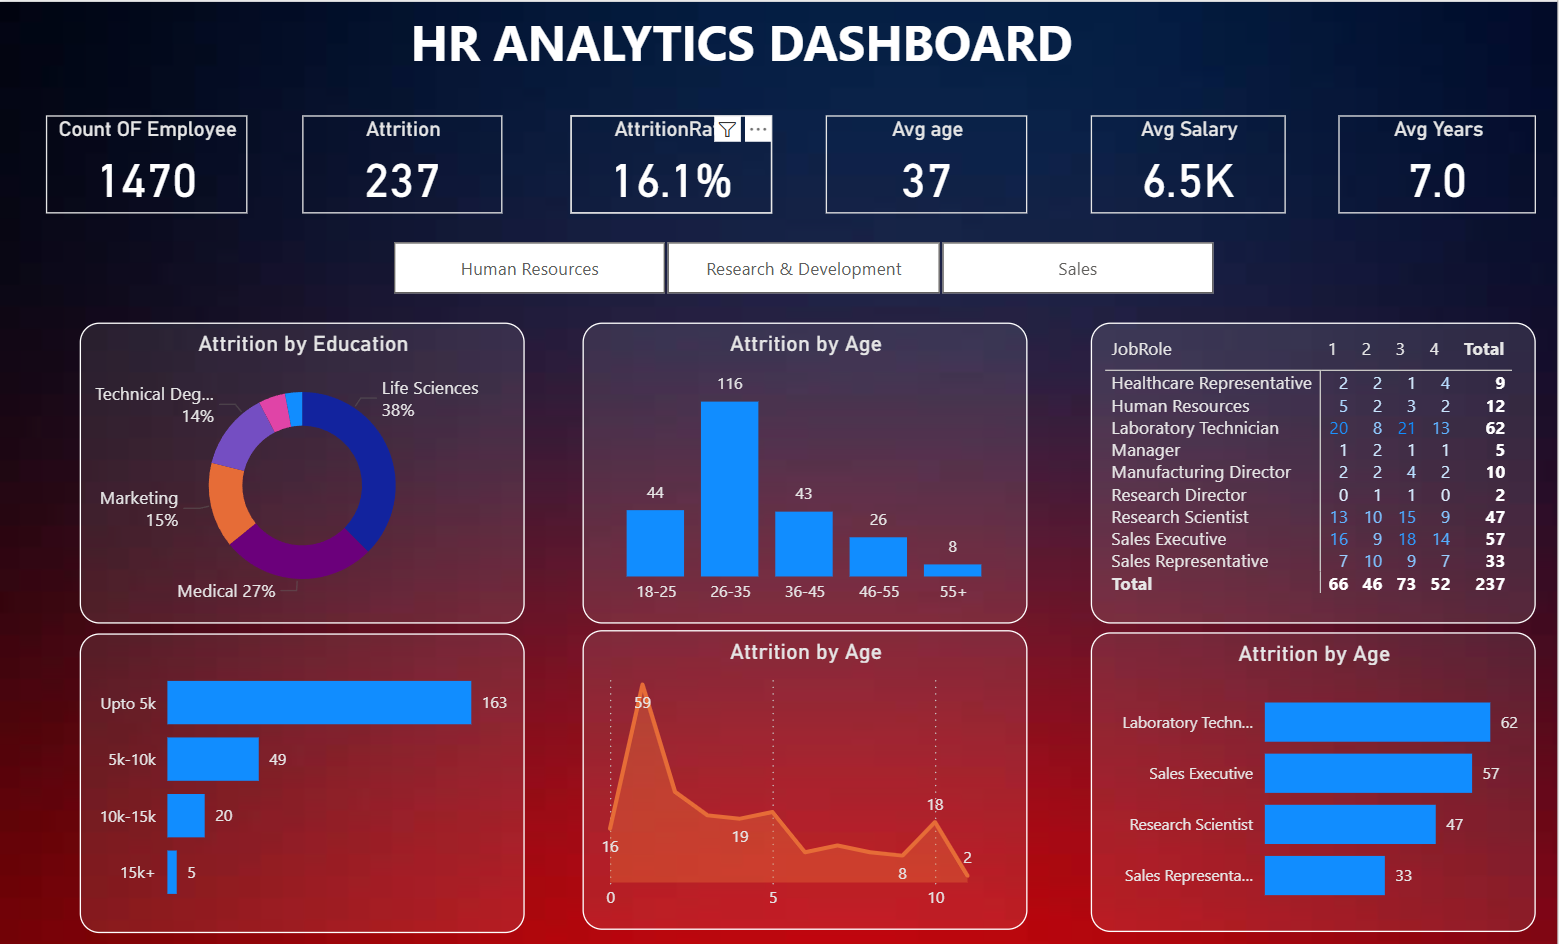

The dashboard page shown, as its layout file describes it:
{"tool":"powerbi","page":{"name":"Page 1","canvas":[1280,720],"ordinal":0},"visuals":[{"type":"card","title":"Count OF Employee","fields":{"Values":["Count(HR_Analytics.EmpID)"]},"box":[36.2,86.2,153.8,75],"z":0},{"type":"card","title":"Avg Salary","fields":{"Values":["Avg(HR_Analytics.MonthlyIncome)"]},"box":[835,86.2,148.8,75],"z":1000},{"type":"card","title":"Attrition","fields":{"Values":["Sum(HR_Analytics.AttritionCount)"]},"box":[232.5,86.2,152.5,75],"z":2000},{"type":"card","title":"AttritionRate","fields":{"Values":["HR_Analytics.AttritionRate"]},"box":[437.5,86.2,153.8,75],"z":3000},{"type":"card","title":"Avg age","fields":{"Values":["Avg(HR_Analytics.Age)"]},"box":[632.5,86.2,153.8,75],"z":4000},{"type":"card","title":"Avg Years","fields":{"Values":["Avg(HR_Analytics.YearsAtCompany)"]},"box":[1023.8,86.2,151.2,75],"z":5000},{"type":"donutChart","title":"Attrition by Education","fields":{"Category":["HR_Analytics.EducationField"],"Y":["Sum(HR_Analytics.AttritionCount)"]},"box":[62.5,245,340,230],"z":6000},{"type":"columnChart","title":"Attrition by Age","fields":{"Category":["HR_Analytics.AgeGroup","HR_Analytics.EducationField"],"Y":["Sum(HR_Analytics.AttritionCount)"]},"box":[446.2,245,340,230],"z":7000},{"type":"pivotTable","fields":{"Rows":["HR_Analytics.JobRole"],"Columns":["HR_Analytics.JobSatisfaction"],"Values":["Sum(HR_Analytics.AttritionCount)"]},"box":[835,245,340,230],"z":8000},{"type":"barChart","fields":{"Category":["HR_Analytics.SalarySlab"],"Y":["Sum(HR_Analytics.AttritionCount)"]},"box":[62.5,482.5,340,228.8],"z":8001},{"type":"areaChart","title":"Attrition by Age","fields":{"Category":["HR_Analytics.YearsAtCompany"],"Y":["Sum(HR_Analytics.AttritionCount)"]},"box":[446.2,480,340,228.8],"z":8002},{"type":"barChart","title":"Attrition by Age","fields":{"Category":["HR_Analytics.JobRole"],"Y":["Sum(HR_Analytics.AttritionCount)"]},"box":[835,481.2,340,228.8],"z":8003},{"type":"slicer","fields":{"Values":["HR_Analytics.Department"]},"box":[276.2,176.2,676.2,52.5],"z":8004},{"type":"textbox","box":[0,0,1136.2,86.2],"z":8005}]}

Visuals, with their boxes on the page's 1280x720 design canvas (x1, y1, x2, y2). These are canvas units, not pixel positions in the 1560x944 screenshot, which may show the page scaled, cropped or inside an application window:
"Count OF Employee" card: region(36, 86, 190, 161)
"Avg Salary" card: region(835, 86, 984, 161)
"Attrition" card: region(232, 86, 385, 161)
"AttritionRate" card: region(438, 86, 591, 161)
"Avg age" card: region(632, 86, 786, 161)
"Avg Years" card: region(1024, 86, 1175, 161)
"Attrition by Education" donutChart: region(62, 245, 402, 475)
"Attrition by Age" columnChart: region(446, 245, 786, 475)
pivotTable - HR_Analytics.JobRole x HR_Analytics.JobSatisfaction: region(835, 245, 1175, 475)
barChart - HR_Analytics.SalarySlab x Sum(HR_Analytics.AttritionCount): region(62, 482, 402, 711)
"Attrition by Age" areaChart: region(446, 480, 786, 709)
"Attrition by Age" barChart: region(835, 481, 1175, 710)
slicer - HR_Analytics.Department: region(276, 176, 952, 229)
textbox: region(0, 0, 1136, 86)
